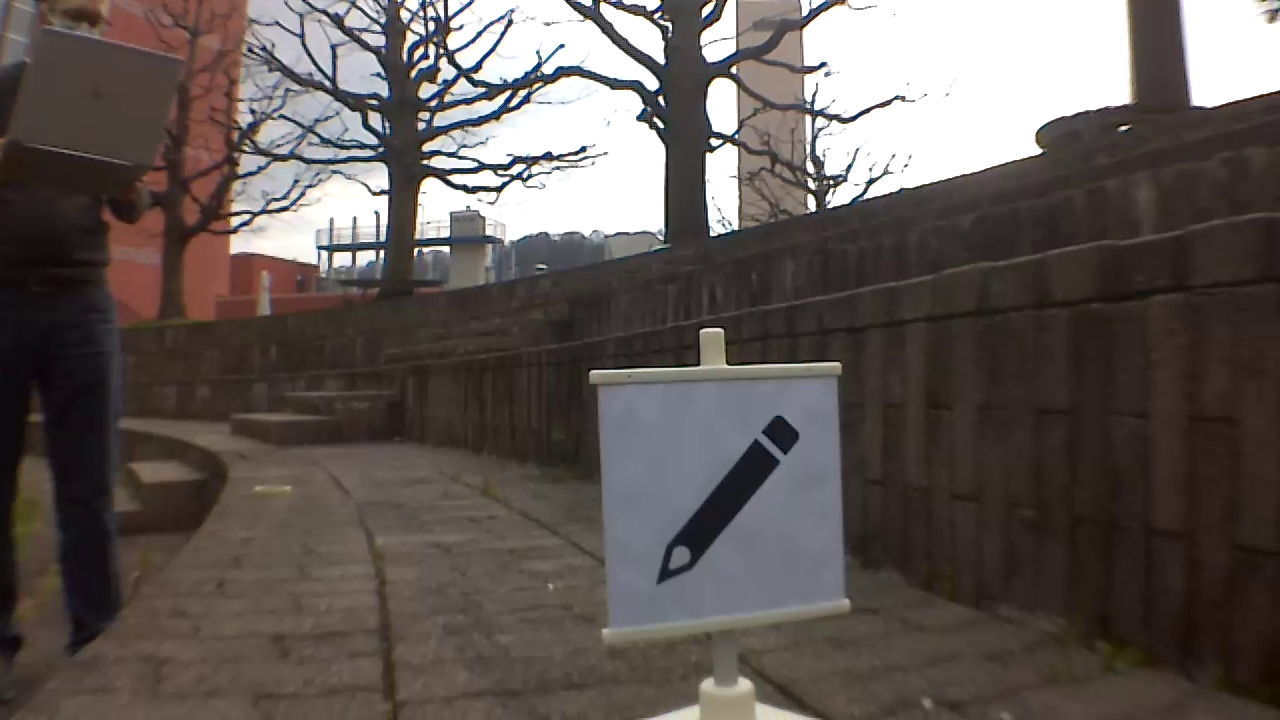pencil: (655, 407, 804, 585)
